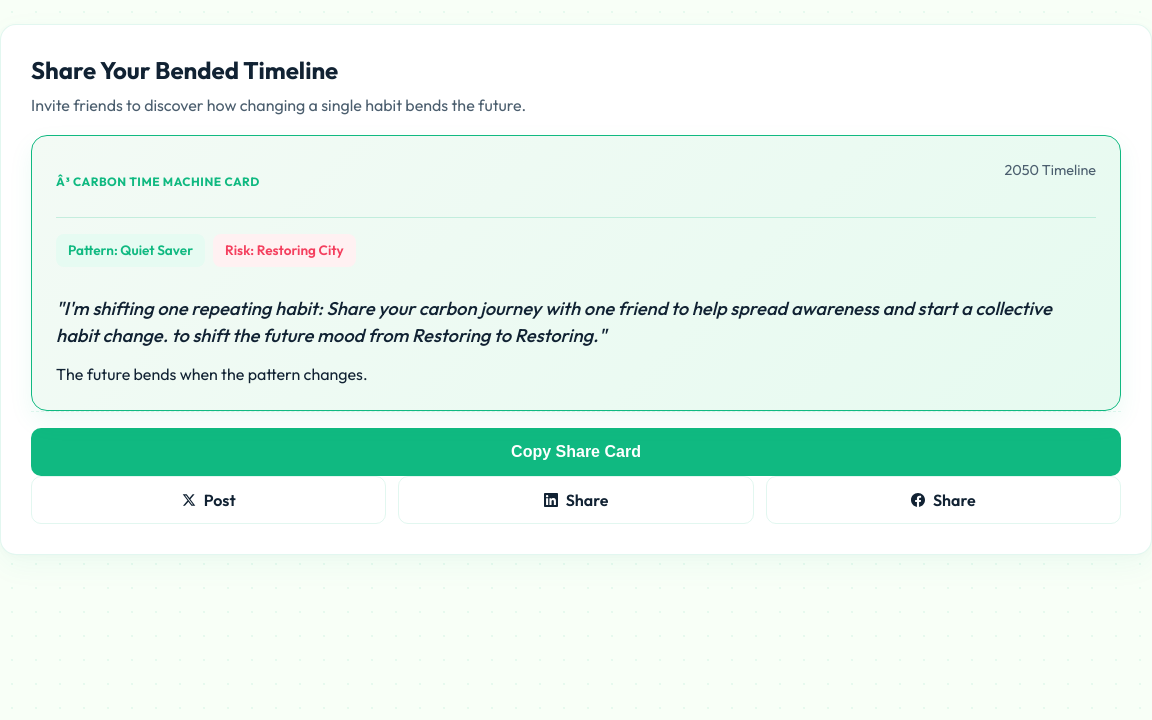
Test: ShareCard › shows a failure toast when copying throws
Click the button "Copy Share Card": [576, 452] box [31, 428, 1121, 476]
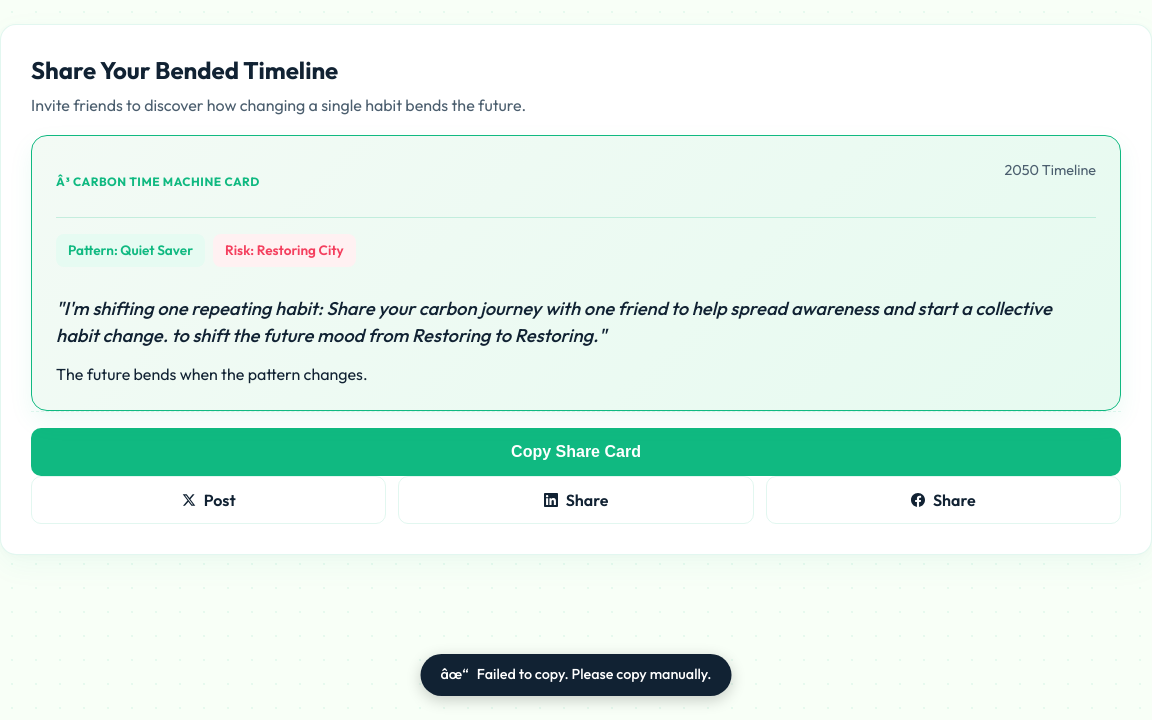
Now the message shows "Failed to copy", box [477, 665, 712, 683]
